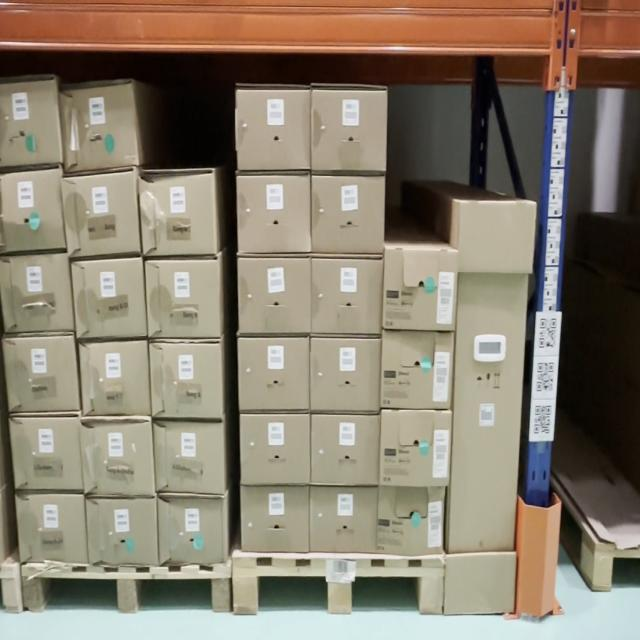box: (448, 272, 527, 556), (61, 166, 139, 254), (145, 258, 222, 339), (456, 199, 537, 276), (142, 170, 218, 251), (382, 245, 456, 328), (239, 87, 310, 172), (7, 336, 79, 418), (65, 85, 137, 166), (15, 490, 87, 569), (236, 257, 310, 333), (7, 413, 80, 490), (238, 336, 312, 410), (77, 340, 151, 414), (381, 334, 454, 409), (238, 172, 312, 245), (150, 423, 227, 492), (72, 268, 146, 339), (77, 421, 151, 492), (85, 494, 160, 564), (147, 346, 223, 415), (312, 180, 385, 250), (314, 95, 386, 164), (312, 261, 380, 334), (312, 336, 378, 410), (239, 415, 309, 482), (380, 417, 451, 482), (312, 413, 379, 481), (377, 490, 446, 555), (156, 502, 228, 564), (312, 486, 378, 553), (240, 486, 311, 546), (445, 558, 518, 611)
